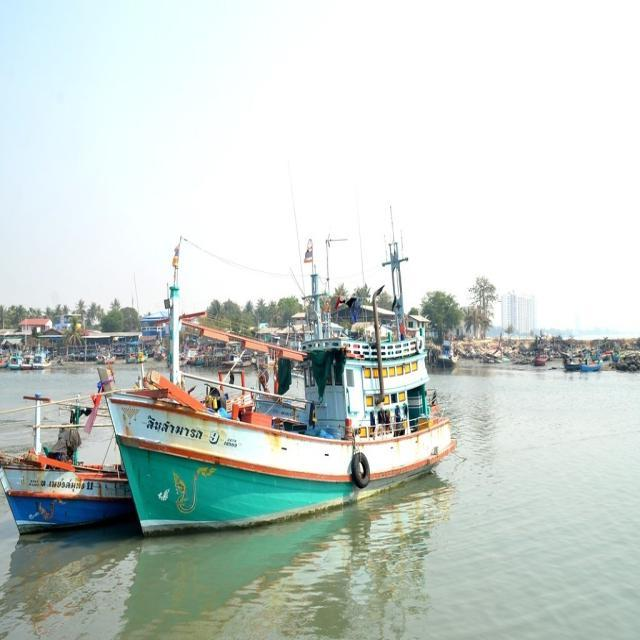boat: (121, 324, 462, 541)
